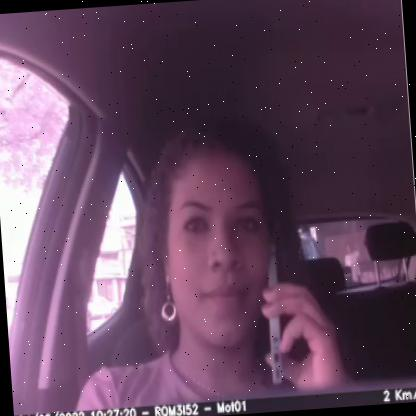phone: (254, 226, 296, 388)
